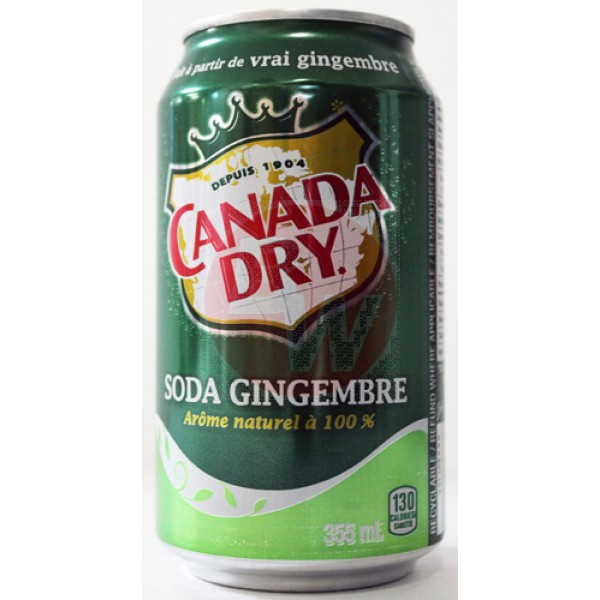Lata: (146, 8, 451, 593)
